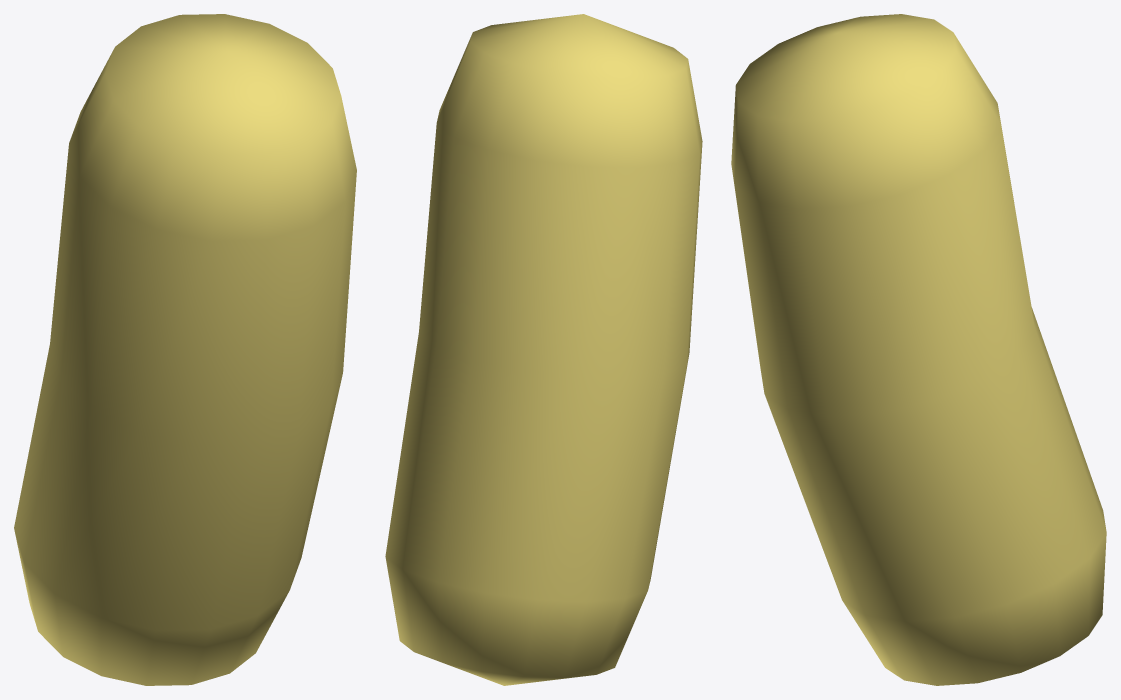
Rendered from red-nucleus-r.glb.
3 views of the same model, side by side, from view 1: azimuth 30°, elevation 25°; view 2: azimuth 150°, elevation 25°; view 3: azimuth 270°, elevation 25° (orthographic). The views are drawn at different scales.
Parts seen in each view (by area): view 1: Red nucleus.r; view 2: Red nucleus.r; view 3: Red nucleus.r.
Part boxes in pixels (x1,y1,x2,y2): Red nucleus.r: (14,14,356,685); Red nucleus.r: (385,14,702,685); Red nucleus.r: (731,14,1106,685).
Size of the model in its own units: 0.00531 by 0.0132 by 0.00708.
